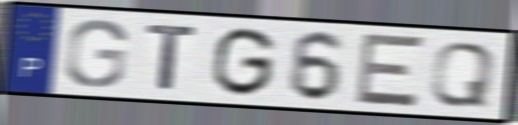6: (287, 29, 347, 104)
E: (352, 31, 428, 110)
G: (209, 25, 279, 99), (62, 18, 130, 90)
Q: (426, 39, 499, 109)
T: (143, 22, 201, 93)
